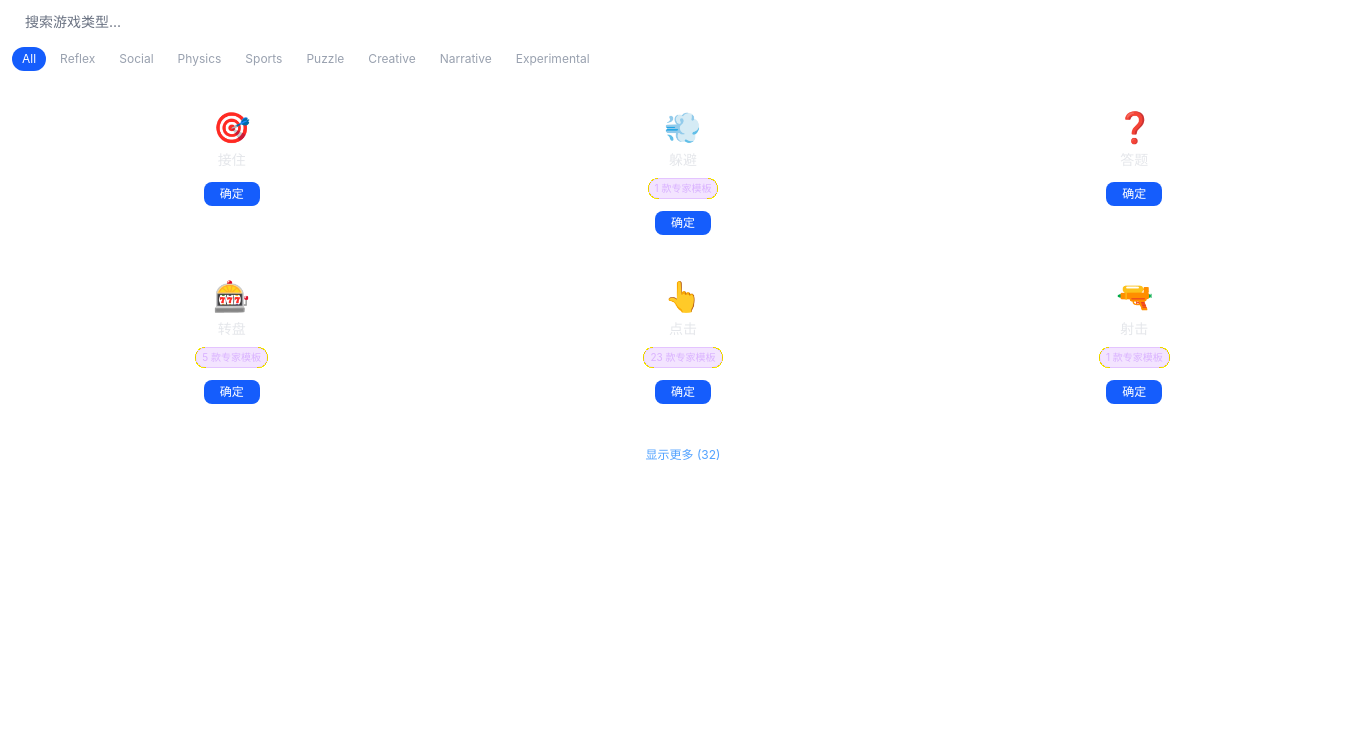
it: GameTypeSelector Progressive Disclosure › coming-soon badge shown for unsupported types
This screenshot has width=1366, height=744.
Expand first
Click the button "显示更多 (32)": (683,455) [12,441,1354,469]
(page scrolled)
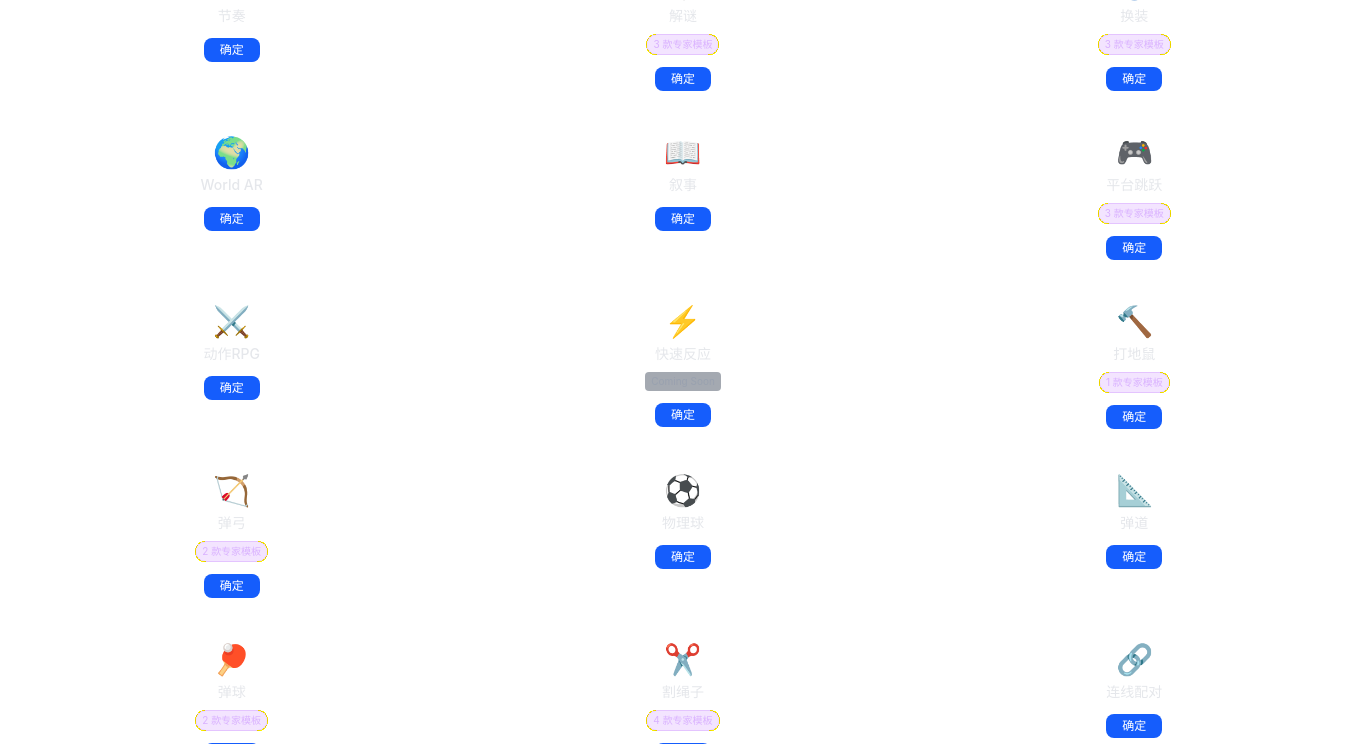
Expected: the text "Coming Soon" is shown, [645,372,721,391]
